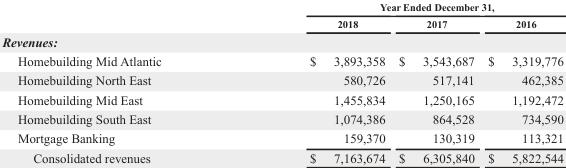table: (1, 0, 563, 164)
table column: (1, 0, 234, 164), (234, 0, 391, 164), (391, 0, 480, 164), (480, 0, 563, 164)
table column header: (1, 0, 563, 31)
table projected row header: (1, 31, 563, 50)
table row: (1, 50, 563, 70), (1, 108, 563, 128), (1, 31, 563, 50), (1, 70, 563, 89), (1, 89, 563, 108), (1, 128, 563, 147), (1, 14, 563, 31), (1, 147, 563, 164), (1, 0, 563, 14)
table spanning cell: (234, 0, 563, 14)
